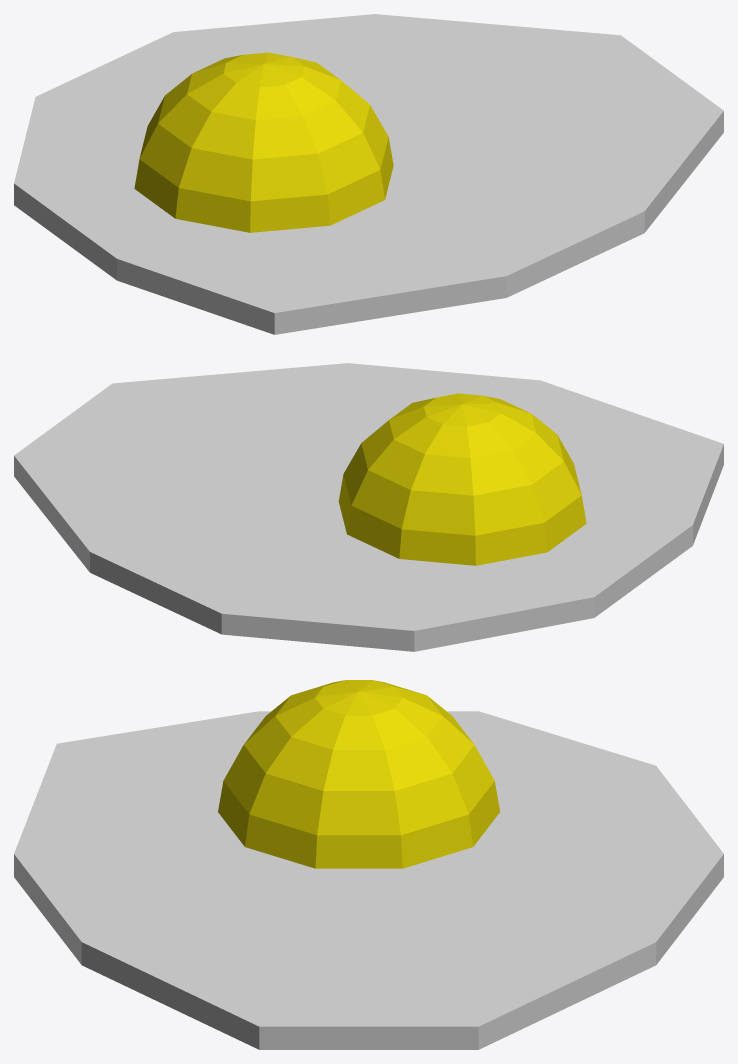
Rendered from eggg.fbx.
3 renders of one model, top to bottom at view 1: azimuth 30°, elevation 25°; view 2: azimuth 150°, elevation 25°; view 3: azimuth 270°, elevation 25°, orthographic. The views are drawn at different scales.
Parts seen in each view (by area): view 1: Cylinder.001; view 2: Cylinder.001; view 3: Cylinder.001.
Part boxes in pixels (left/top/right/bottom): Cylinder.001: left=14, top=14, right=723, bottom=334; Cylinder.001: left=14, top=363, right=723, bottom=651; Cylinder.001: left=14, top=680, right=723, bottom=1049.
Bounding box in the file's own units: 299 × 63.64 × 285.
